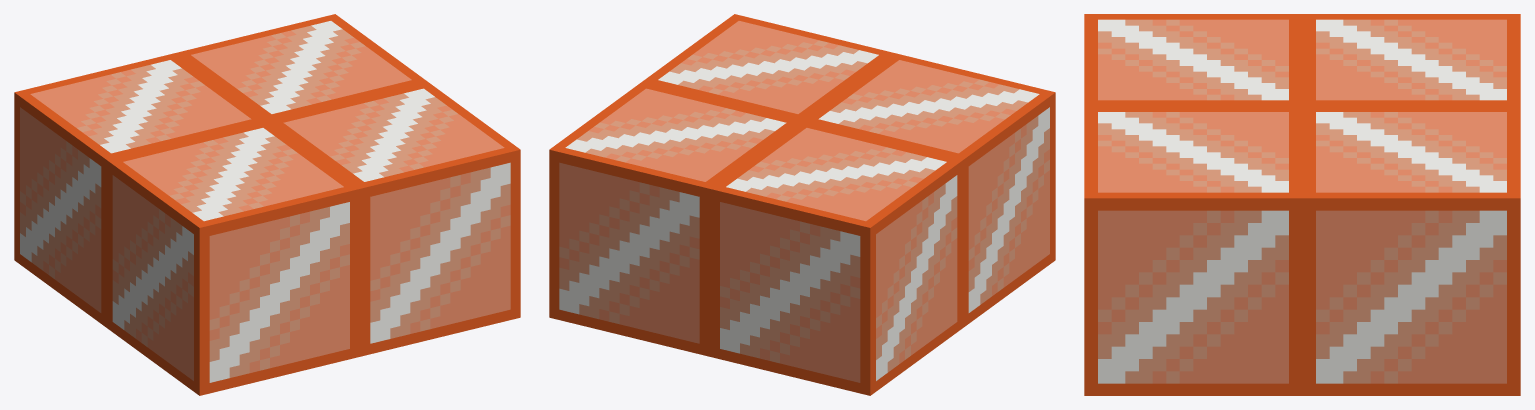
File: alter_tiles_orange2x2.fbx
3 renders of one model, left to right at view 1: azimuth 30°, elevation 25°; view 2: azimuth 150°, elevation 25°; view 3: azimuth 270°, elevation 25°, orthographic. The views are drawn at different scales.
Visible parts, largest first — view 1: alter_tiles_orange2x2; view 2: alter_tiles_orange2x2; view 3: alter_tiles_orange2x2.
Boxes of the visible parts, x1,y1,x2,y2 form: alter_tiles_orange2x2: [14, 14, 520, 395]; alter_tiles_orange2x2: [549, 14, 1055, 395]; alter_tiles_orange2x2: [1084, 14, 1520, 395].
Bounding box in the file's own units: 3.2 × 1.6 × 3.2.
1 material, 1 textured.
